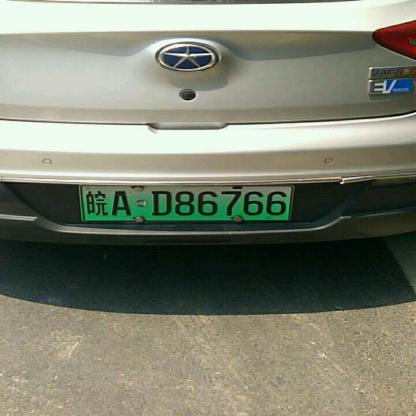lp: (79, 185, 291, 221)
